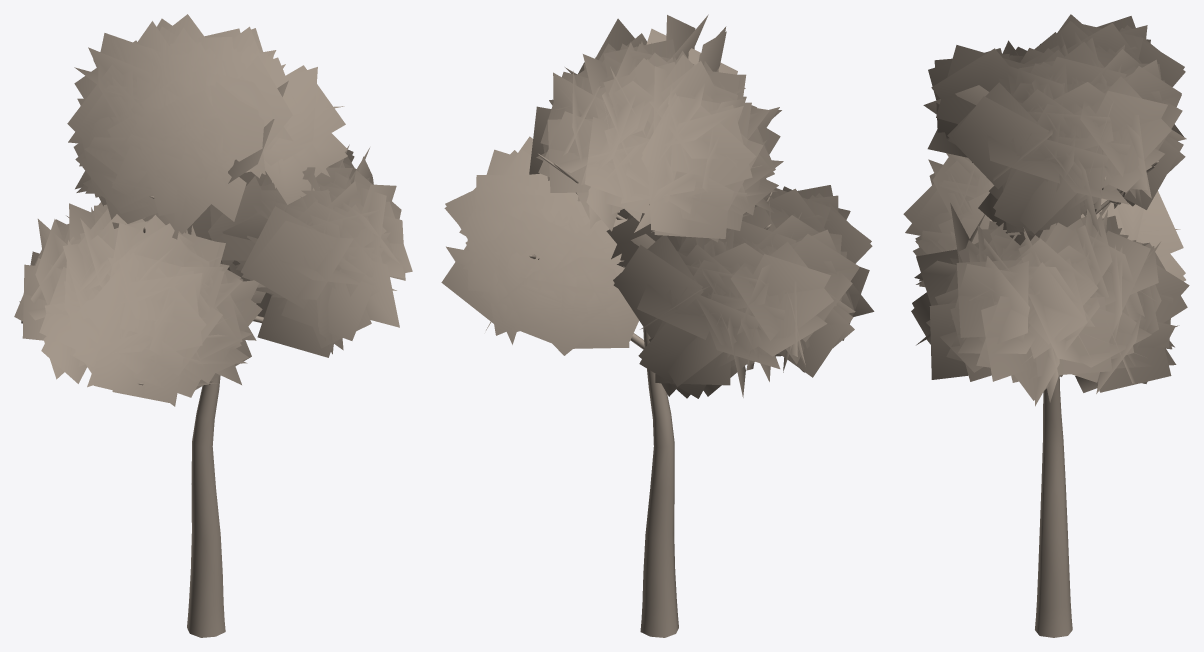
File: BirchTree_4.glb
3 views of the same model, side by side, from view 1: azimuth 30°, elevation 25°; view 2: azimuth 150°, elevation 25°; view 3: azimuth 270°, elevation 25° (orthographic).
Visible parts, largest first — view 1: BirchTree_Leaves, BirchTree_Bark; view 2: BirchTree_Leaves, BirchTree_Bark; view 3: BirchTree_Leaves, BirchTree_Bark.
Boxes of the visible parts, x1,y1,x2,y2 form: BirchTree_Leaves: (14, 14, 412, 406); BirchTree_Bark: (138, 196, 263, 637); BirchTree_Leaves: (441, 14, 874, 398); BirchTree_Bark: (529, 153, 772, 637); BirchTree_Leaves: (903, 14, 1189, 406); BirchTree_Bark: (1035, 161, 1158, 637).
Size of the model in its own units: 2.78 by 4.21 by 1.84.
